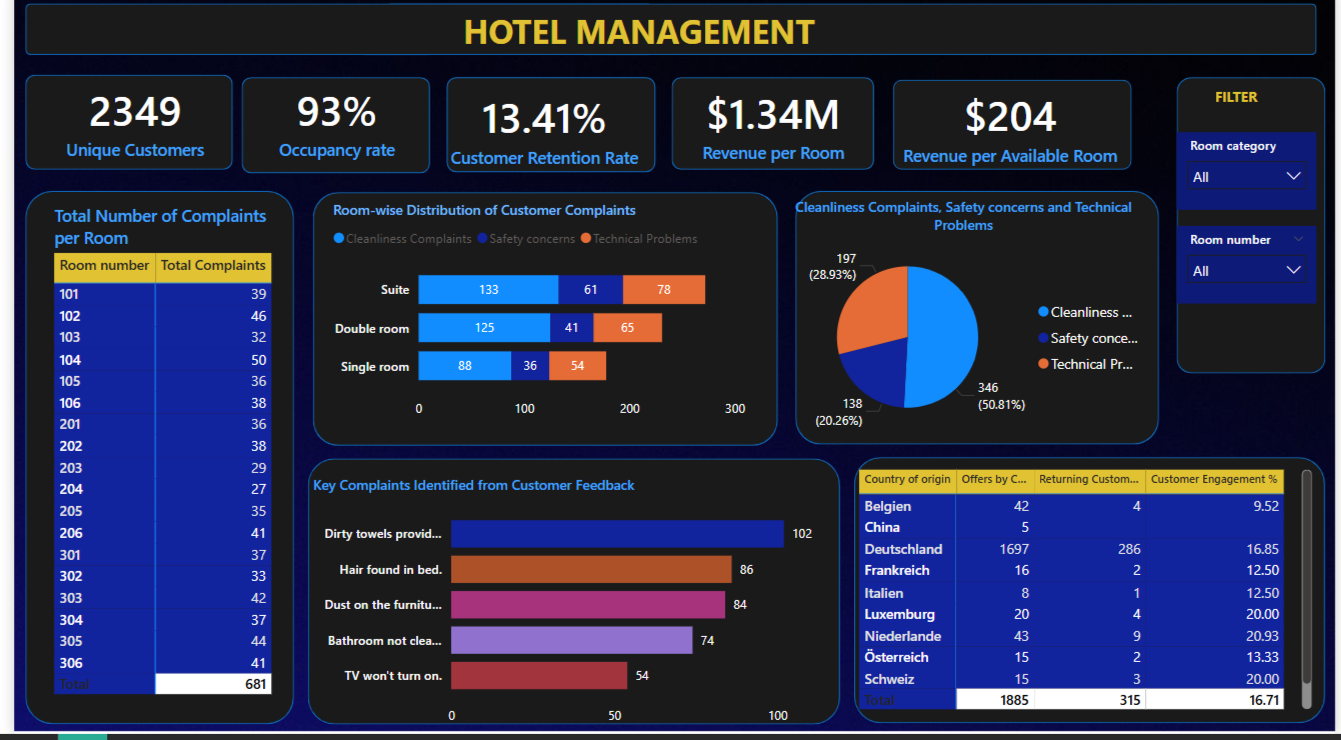

The page's visual inventory and layout, read from the dashboard file:
{"tool":"powerbi","page":{"name":"Page 1","canvas":[1280,720],"ordinal":0},"visuals":[{"type":"shape","box":[10.9,12.1,1250.4,50],"z":0},{"type":"textbox","box":[429.7,12.1,360.7,59.3],"z":1000},{"type":"shape","box":[10.9,81.1,200.9,92],"z":2000},{"type":"shape","box":[220.3,83.5,182.8,93.2],"z":3000},{"type":"shape","box":[418.8,83.5,202.2,92],"z":4000},{"type":"shape","box":[636.7,83.5,196.1,89.6],"z":5000},{"type":"card","fields":{"Values":["KPI.Unique Customers"]},"box":[33.9,75.1,167,100.5],"z":6000},{"type":"card","fields":{"Values":["KPI.Customer Retention Rate"]},"box":[412.8,85.9,202.2,93.2],"z":7000},{"type":"card","fields":{"Values":["KPI.Revenue per Available Room"]},"box":[851,82.3,208.2,94.4],"z":8000},{"type":"card","fields":{"Values":["KPI.Revenue per Room"]},"box":[657.3,82.3,156.2,92],"z":9000},{"type":"shape","box":[10.9,193.7,260.3,516.9],"z":10000},{"type":"pivotTable","title":"Total Number of Complaints per Room","fields":{"Rows":["Hotel room.Room number"],"Values":["KPI.Total Complaints"]},"box":[33.9,205.8,231.2,504.8],"z":11000},{"type":"shape","box":[289.3,194.9,450.3,245.7],"z":12000},{"type":"barChart","title":"Room-wise Distribution of Customer Complaints","fields":{"Category":["Hotel room.Room category"],"Y":["KPI.Cleanliness Complaints","KPI.Safety concerns","KPI.Technical Problems"]},"box":[303.8,202.2,409.1,220.3],"z":13000},{"type":"shape","box":[756.6,193.7,352.3,245.7],"z":14000},{"type":"pieChart","fields":{"Y":["KPI.Cleanliness Complaints","KPI.Safety concerns","KPI.Technical Problems"]},"box":[734.8,199.7,369.2,236],"z":15000},{"type":"shape","box":[284.5,452.7,515.7,257.8],"z":16000},{"type":"barChart","title":"Key Complaints Identified from Customer Feedback","fields":{"Category":["Tickets.Description"],"Y":["KPI.Total Complaints by description"]},"box":[284.5,468.5,506,251.8],"z":17000},{"type":"shape","box":[851,85.9,231.2,87.2],"z":18000},{"type":"card","fields":{"Values":["KPI.Occupancy"]},"box":[222.7,78.7,180.4,93.2],"z":19000},{"type":"card","fields":{"Values":["KPI.Revenue per Available Room"]},"box":[853.4,84.7,222.7,92],"z":20000},{"type":"shape","box":[813.5,451.5,456.4,257.8],"z":21000},{"type":"pivotTable","fields":{"Rows":["Customers.Country of origin"],"Values":["KPI.Offer Sent","KPI.Returning Customers by Country","KPI.Customer Engagement %"]},"box":[813.5,458.8,447.9,242.1],"z":22000},{"type":"shape","box":[1125.8,83.5,144,286.9],"z":23000},{"type":"slicer","fields":{"Values":["Hotel room.Room category"]},"box":[1125.8,136.8,135.6,75.1],"z":24000},{"type":"textbox","box":[1139.1,88.4,88.4,37.5],"z":25000},{"type":"slicer","fields":{"Values":["Hotel room.Room number"]},"box":[1125.8,227.6,135.6,75.1],"z":26000}]}

Visuals, with their boxes in screenshot pixels (x1, y1, x2, y2), scaled from the page's 1280x720 canvas onto the 1341x740 screenshot:
shape: BBox(11, 12, 1321, 64)
textbox: BBox(450, 12, 828, 73)
shape: BBox(11, 83, 222, 178)
shape: BBox(231, 86, 422, 182)
shape: BBox(439, 86, 651, 180)
shape: BBox(667, 86, 872, 178)
card - KPI.Unique Customers: BBox(36, 77, 210, 180)
card - KPI.Customer Retention Rate: BBox(432, 88, 644, 184)
card - KPI.Revenue per Available Room: BBox(892, 85, 1110, 182)
card - KPI.Revenue per Room: BBox(689, 85, 852, 179)
shape: BBox(11, 199, 284, 730)
"Total Number of Complaints per Room" pivotTable: BBox(36, 212, 278, 730)
shape: BBox(303, 200, 775, 453)
"Room-wise Distribution of Customer Complaints" barChart: BBox(318, 208, 747, 434)
shape: BBox(793, 199, 1162, 452)
pieChart - KPI.Cleanliness Complaints x KPI.Safety concerns: BBox(770, 205, 1157, 448)
shape: BBox(298, 465, 838, 730)
"Key Complaints Identified from Customer Feedback" barChart: BBox(298, 482, 828, 739)
shape: BBox(892, 88, 1134, 178)
card - KPI.Occupancy: BBox(233, 81, 422, 177)
card - KPI.Revenue per Available Room: BBox(894, 87, 1127, 182)
shape: BBox(852, 464, 1330, 729)
pivotTable - Customers.Country of origin x KPI.Offer Sent: BBox(852, 472, 1322, 720)
shape: BBox(1179, 86, 1330, 381)
slicer - Hotel room.Room category: BBox(1179, 141, 1322, 218)
textbox: BBox(1193, 91, 1286, 129)
slicer - Hotel room.Room number: BBox(1179, 234, 1322, 311)
